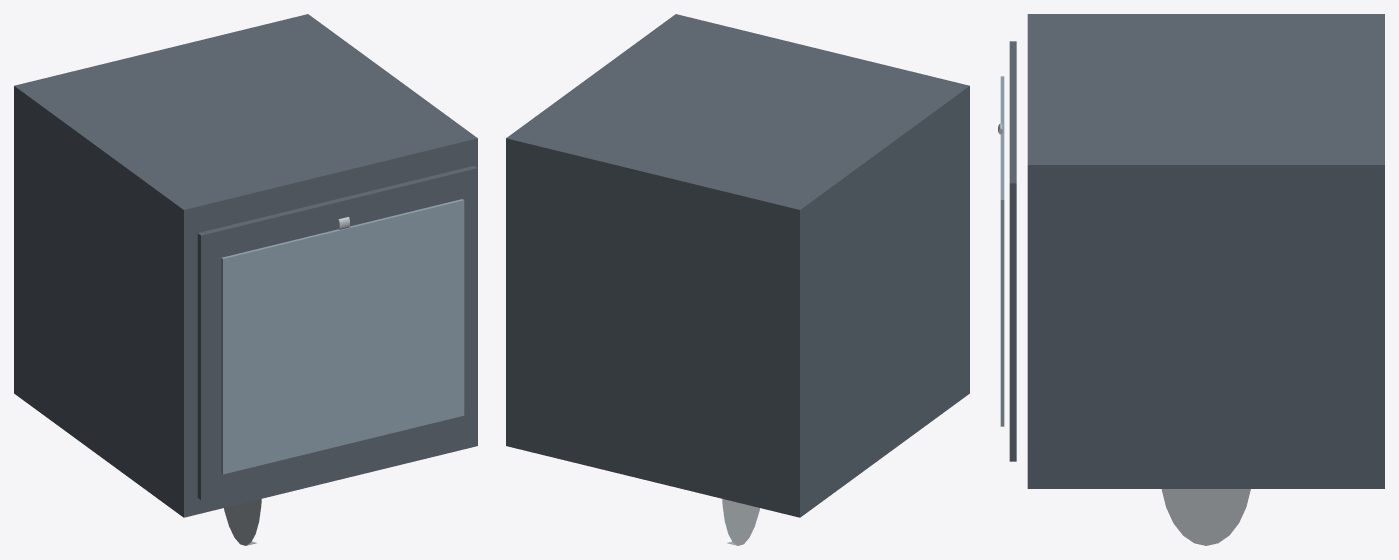
3 views of the same model, side by side, from view 1: azimuth 30°, elevation 25°; view 2: azimuth 150°, elevation 25°; view 3: azimuth 270°, elevation 25° (orthographic). The views are drawn at different scales.
Parts seen in each view (by area): view 1: body, glow, screen, foot; view 2: body, foot; view 3: body, foot, screen, glow.
Boxes of the visible parts, x1=… form: body: x1=14, y1=14, x2=477, y2=517; glow: x1=221, y1=199, x2=464, y2=474; screen: x1=197, y1=166, x2=477, y2=500; foot: x1=224, y1=499, x2=261, y2=545; body: x1=506, y1=14, x2=969, y2=517; foot: x1=722, y1=499, x2=759, y2=545; body: x1=1027, y1=14, x2=1384, y2=488; foot: x1=1161, y1=489, x2=1250, y2=545; screen: x1=1009, y1=41, x2=1016, y2=461; glow: x1=1000, y1=76, x2=1004, y2=426.
Size of the model in its own units: 1 by 1.4 by 1.08.
